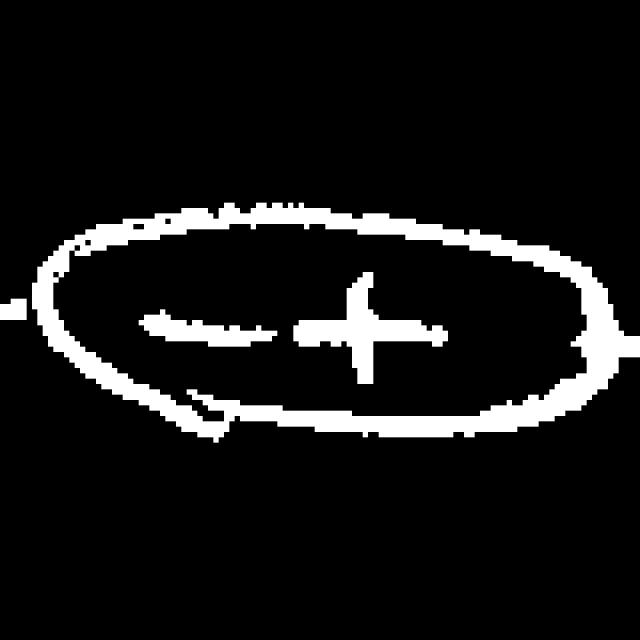voltage_source: (31, 189, 624, 459)
